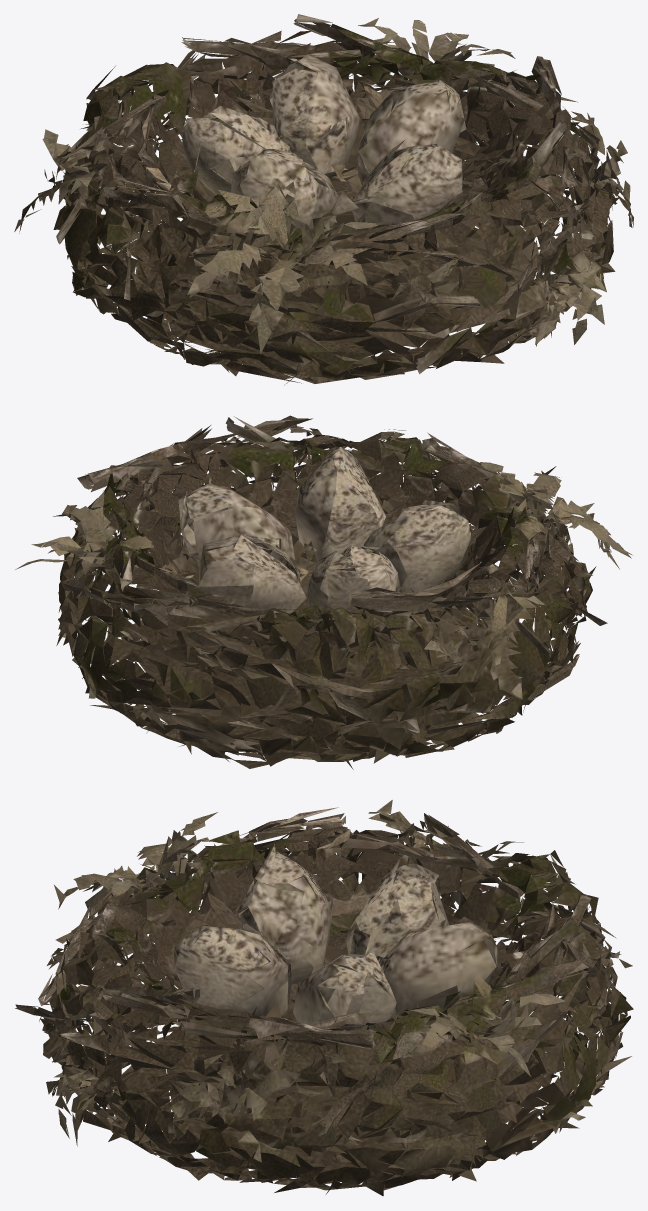
The model's file is egg_nest.glb.
3 views of the same model, one above another, from view 1: azimuth 30°, elevation 25°; view 2: azimuth 150°, elevation 25°; view 3: azimuth 270°, elevation 25° (orthographic). The views are drawn at different scales.
Visible parts, largest first — view 1: Mesh_0; view 2: Mesh_0; view 3: Mesh_0.
Part boxes in pixels (left/top/right/bottom): Mesh_0: left=14, top=14, right=633, bottom=385; Mesh_0: left=15, top=415, right=632, bottom=769; Mesh_0: left=15, top=800, right=633, bottom=1195.
Bounding box in the file's own units: 3.2 × 1.12 × 3.12.
Materials: 1 (1 with a texture image).
